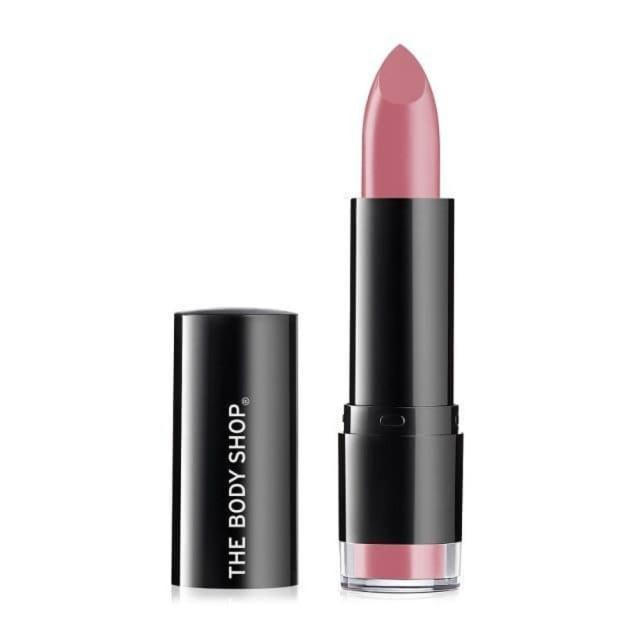lipstick: (325, 27, 471, 593)
